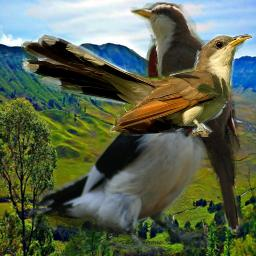Cuckoo: (130, 2, 246, 235), (21, 34, 252, 137)
Woodpecker: (28, 35, 232, 255)
